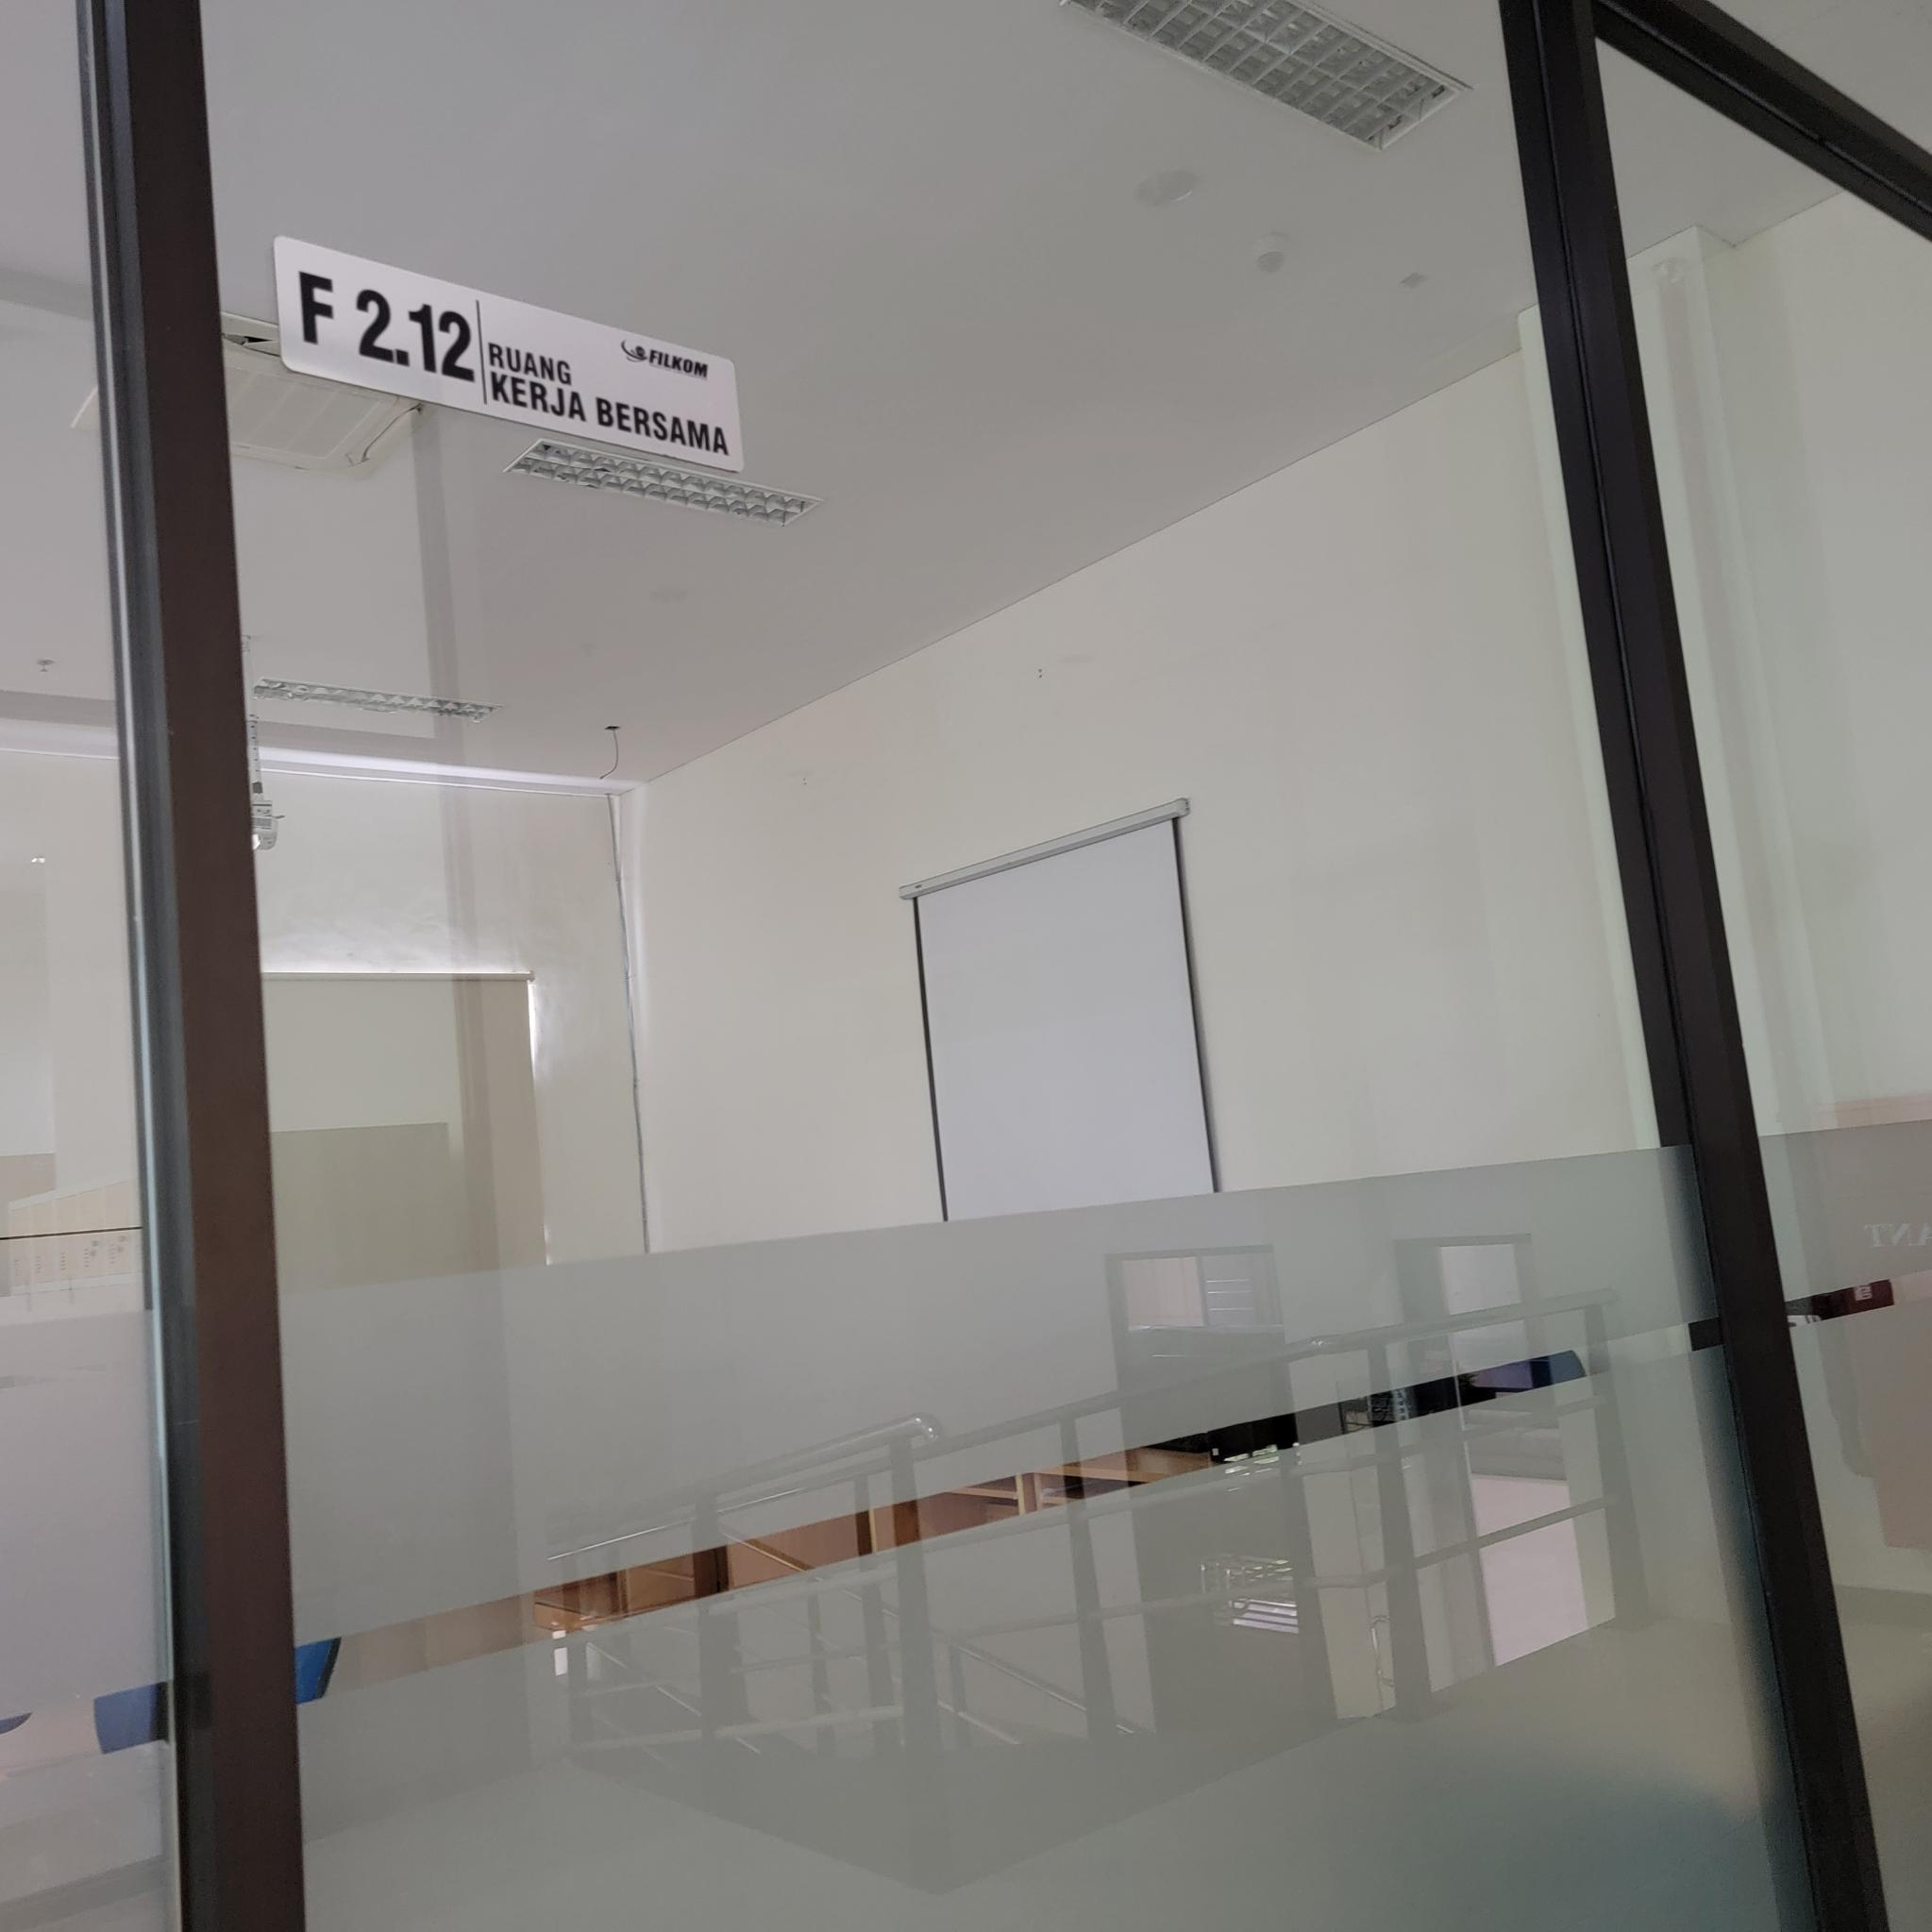plate: (274, 230, 743, 471)
